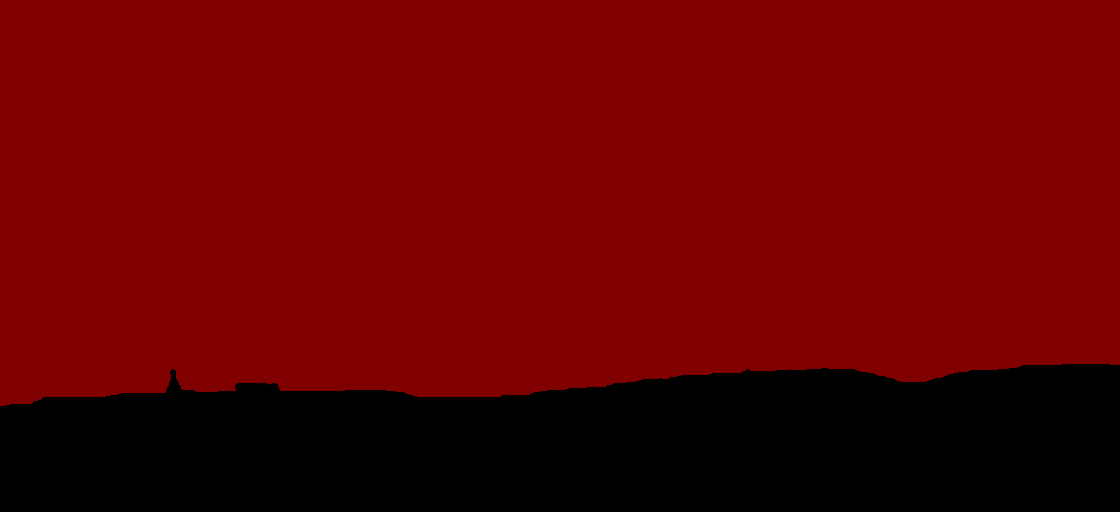Sky: (1, 1, 1119, 511)
